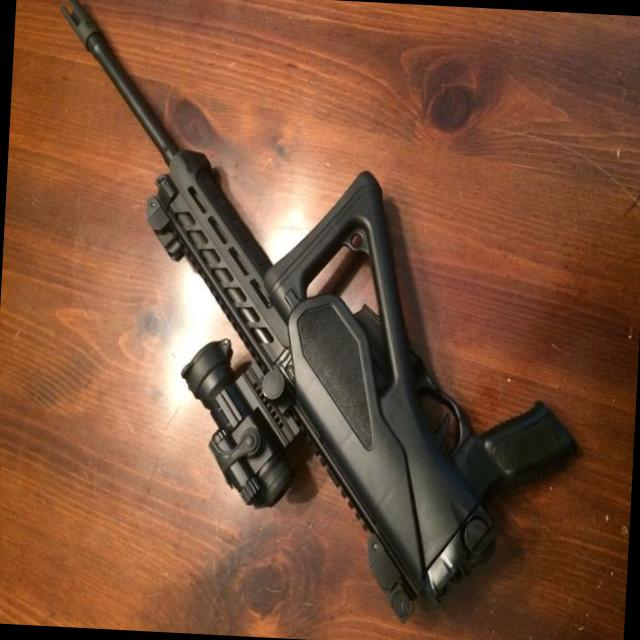Gun: (62, 0, 575, 614)
